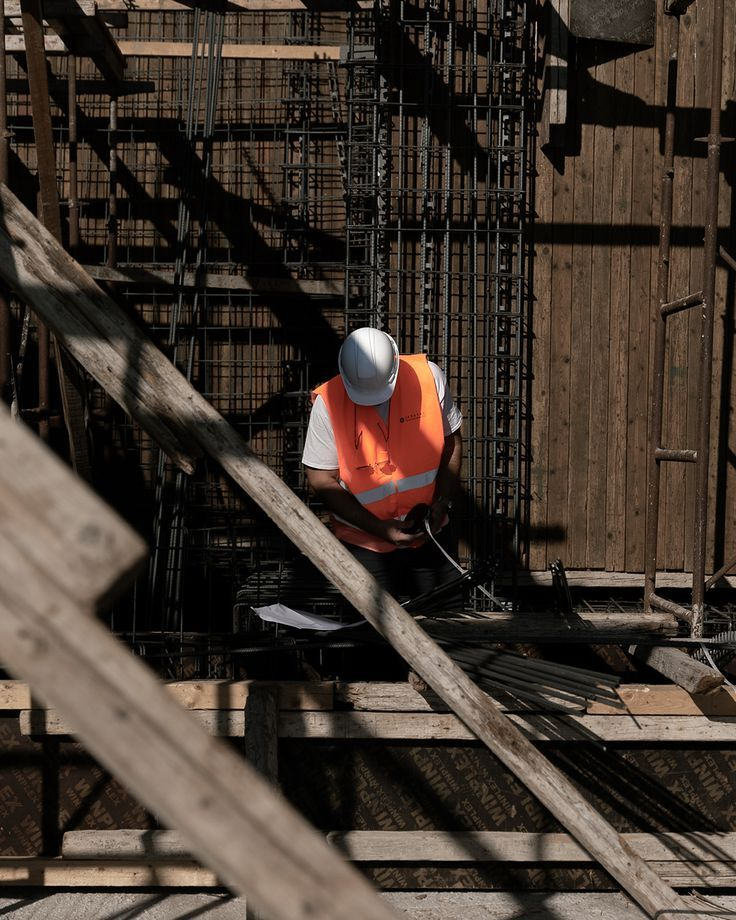hardhat: (325, 324, 410, 413)
person: (281, 279, 465, 671)
safety_vest: (312, 378, 453, 541)
